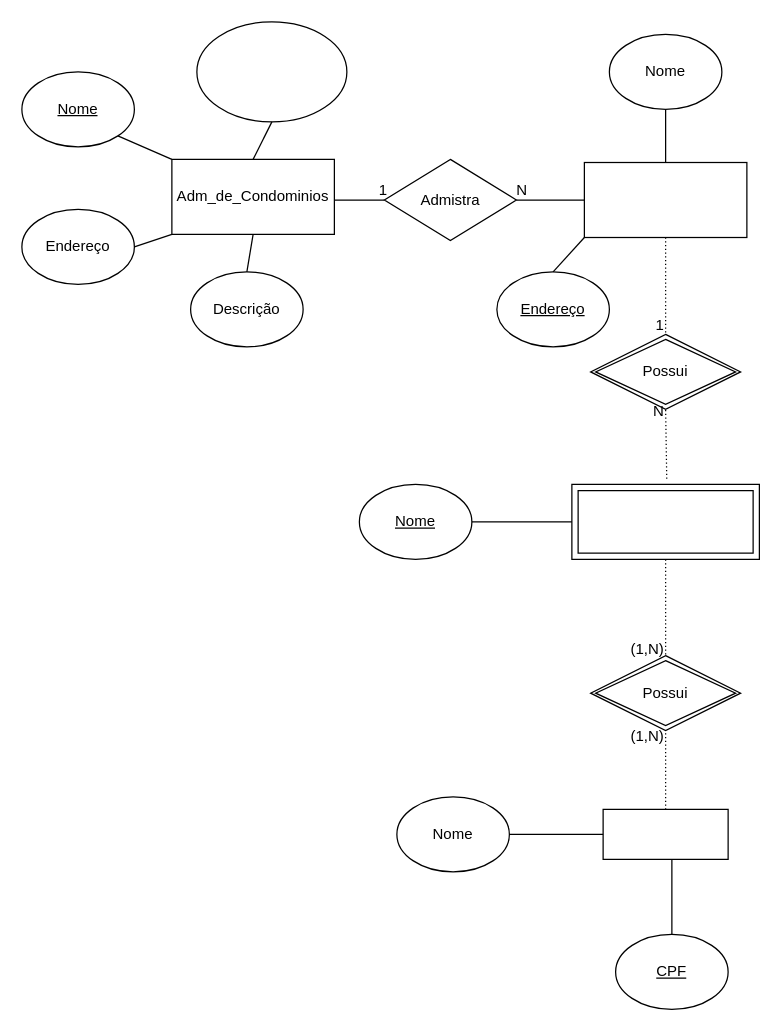
This 781x1031 diagram has some shape labels left out. Each missing label, with the centre of its shape:
"Condominios" belongs at (665,199).
"Pessoa" belongs at (665,833).
"Qtd_de_Condomínios" belongs at (271,71).
"Unidade_Condominial" belongs at (665,521).
